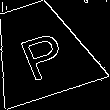P_N: (10, 20, 69, 80)
